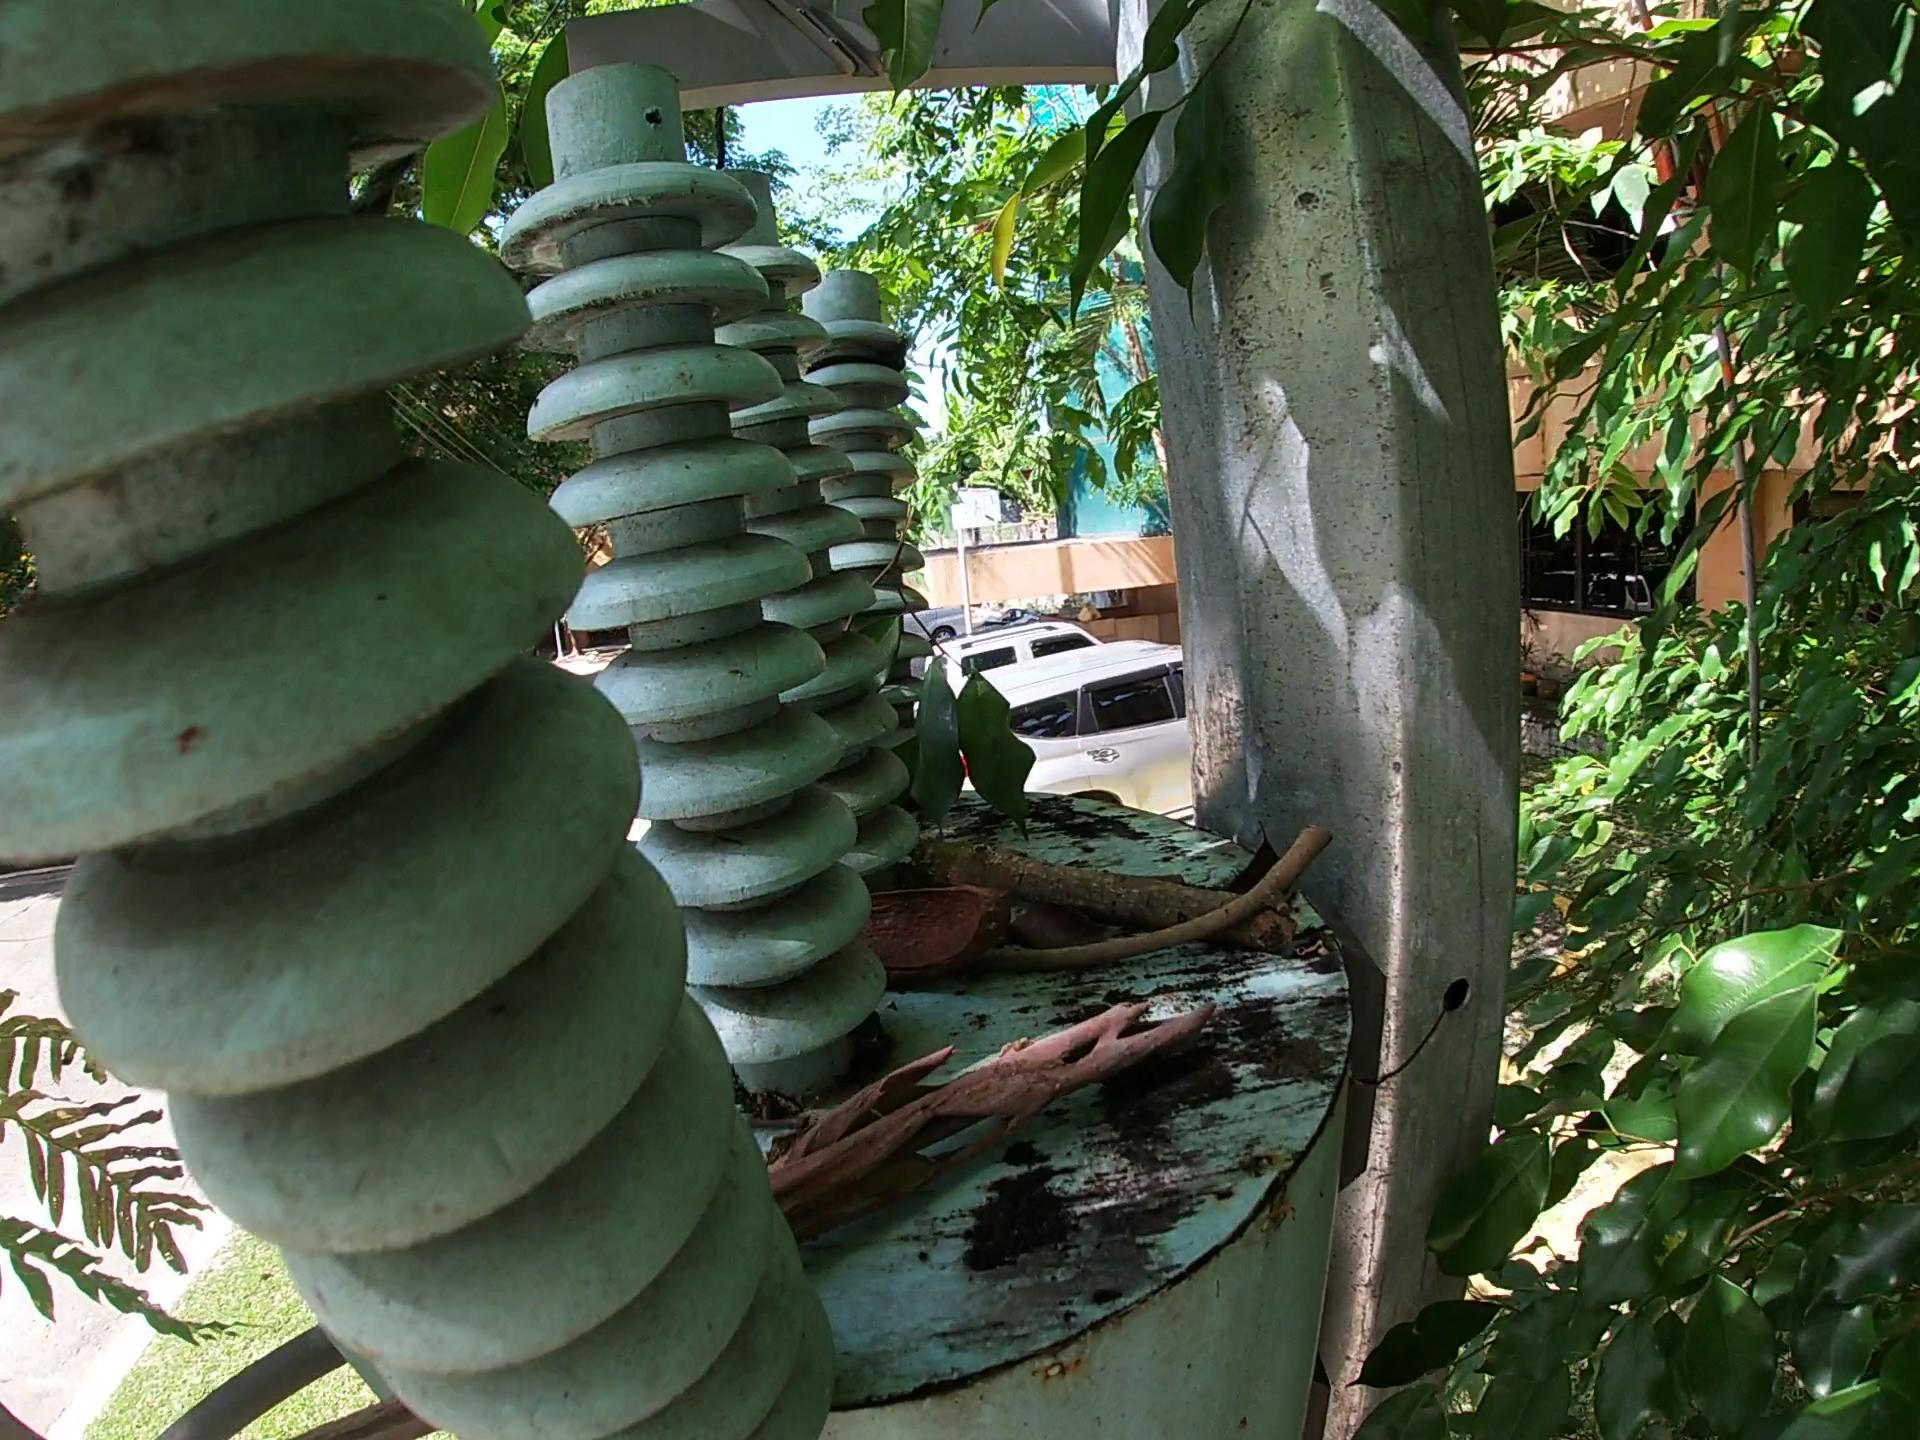branch with leaves: (850, 446, 1072, 821)
mahogany fruit: (847, 874, 1005, 973)
tree branch: (747, 998, 1237, 1243), (980, 833, 1353, 971), (919, 818, 1305, 930), (263, 1389, 423, 1440)
